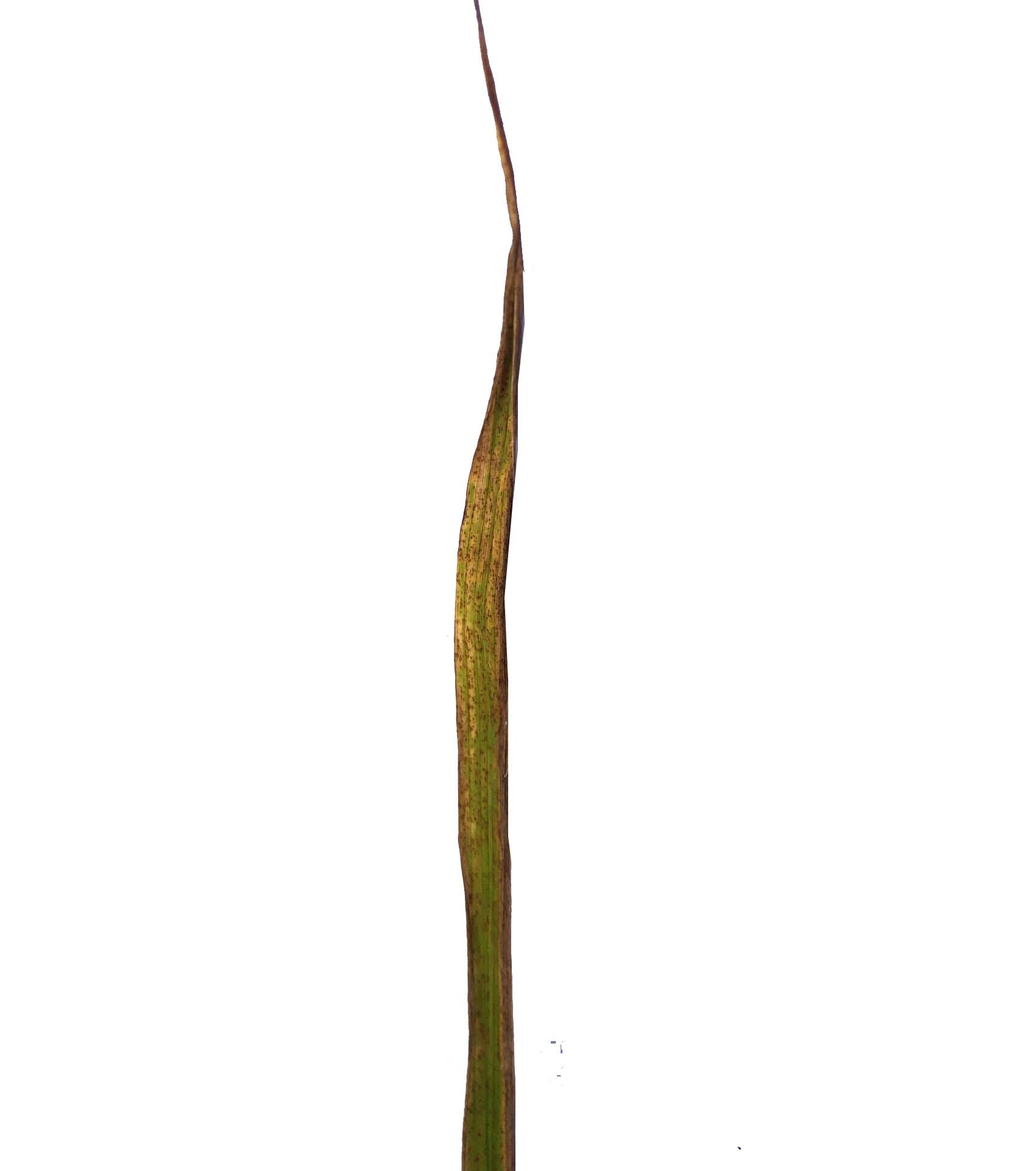Tungro: (458, 27, 531, 1168)
